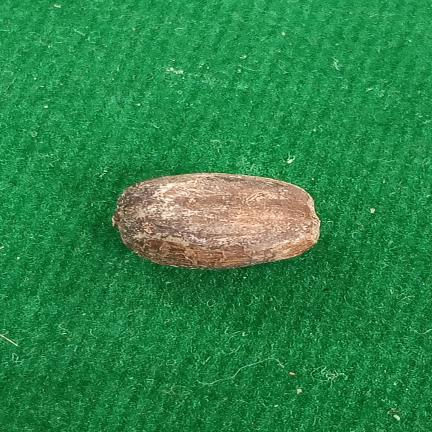husk: (112, 173, 320, 269)
